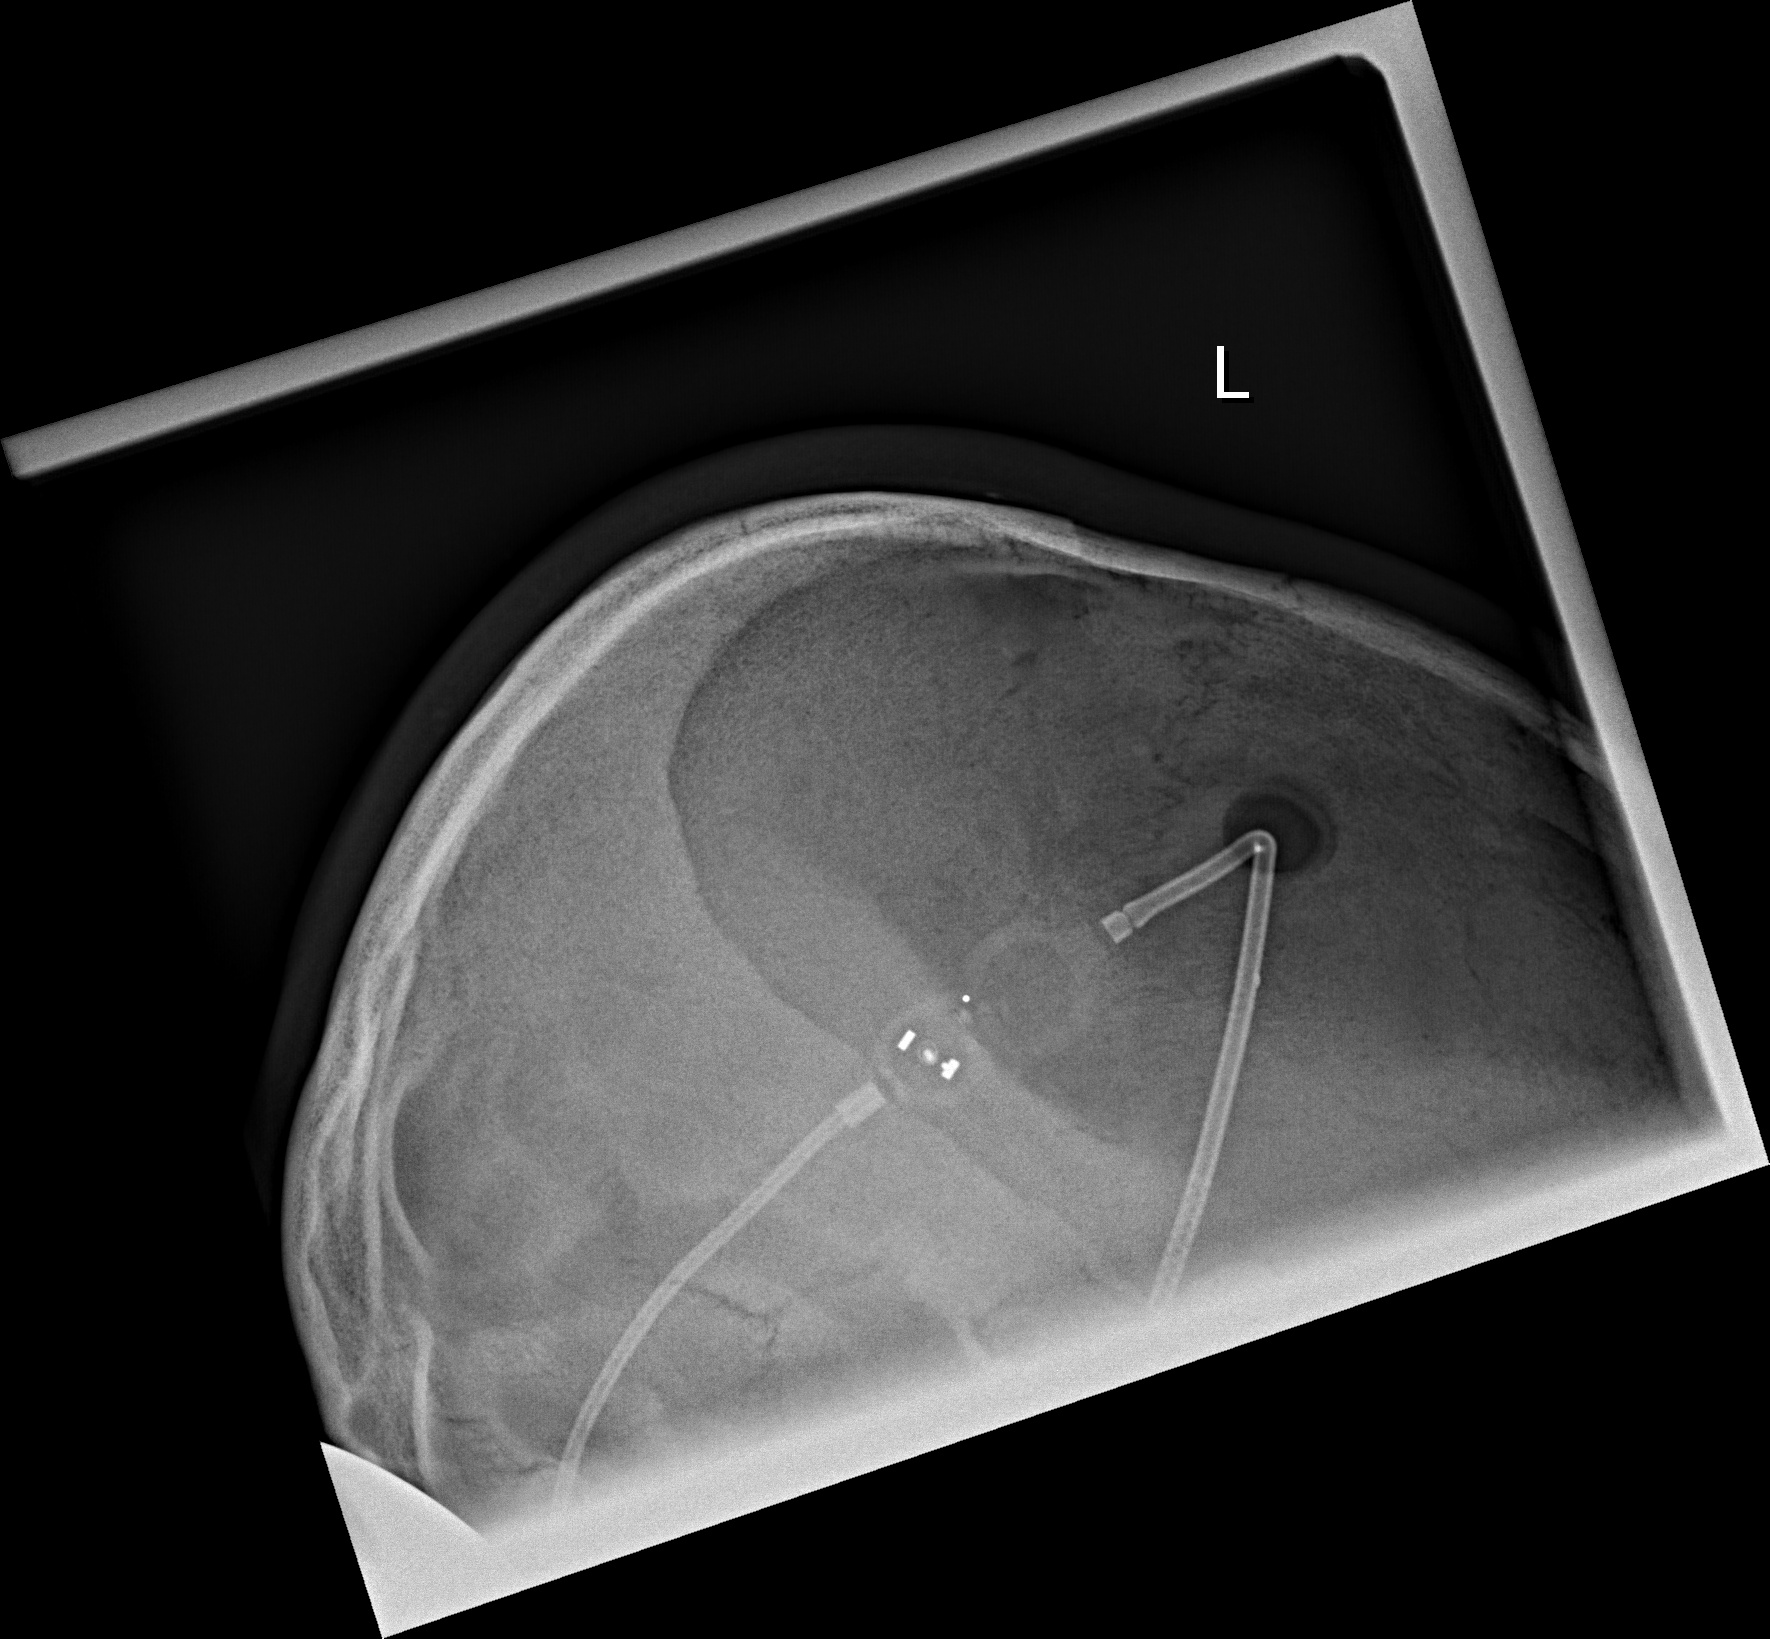Codman Certas: (870, 988, 988, 1115)
